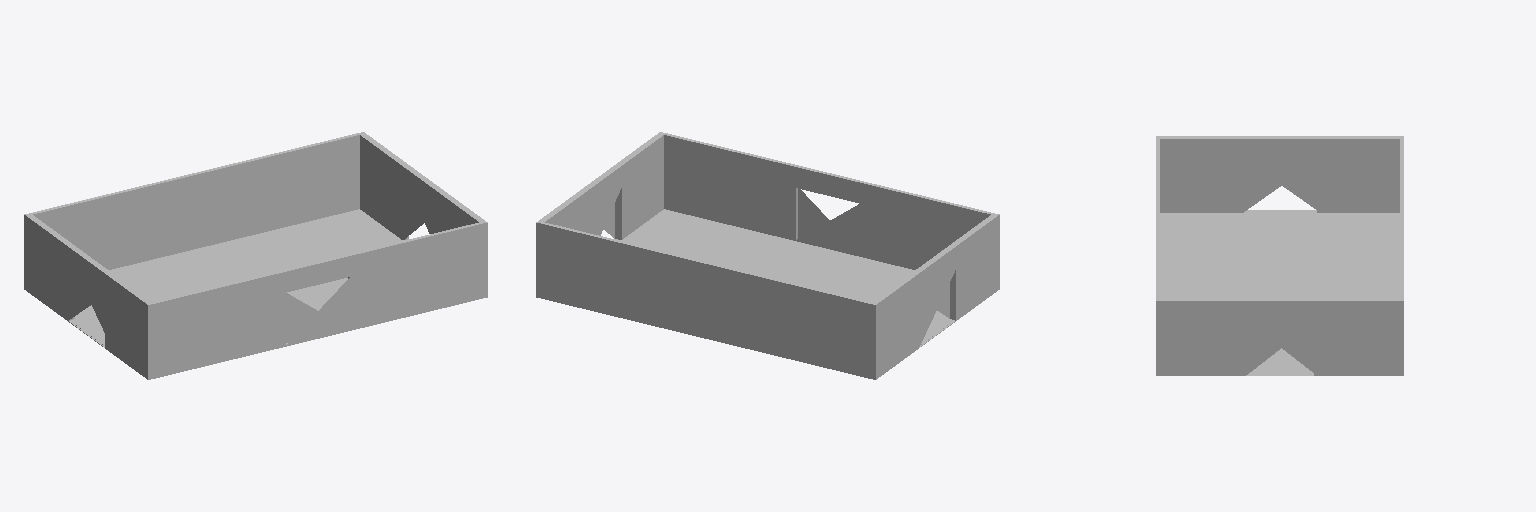
File: Room4.obj
3 renders of one model, left to right at view 1: azimuth 30°, elevation 25°; view 2: azimuth 150°, elevation 25°; view 3: azimuth 270°, elevation 25°, orthographic.
Parts seen in each view (by area): view 1: jorge.001, Plane; view 2: jorge.001, Plane; view 3: jorge.001, Plane.
Part boxes in pixels (left/top/right/bottom): jorge.001: left=24, top=132, right=487, bottom=379; Plane: left=70, top=209, right=408, bottom=345; jorge.001: left=536, top=132, right=999, bottom=379; Plane: left=615, top=209, right=953, bottom=344; jorge.001: left=1156, top=136, right=1403, bottom=375; Plane: left=1160, top=211, right=1399, bottom=375.
Bounding box in the file's own units: 28.35 × 5.99 × 17.94.